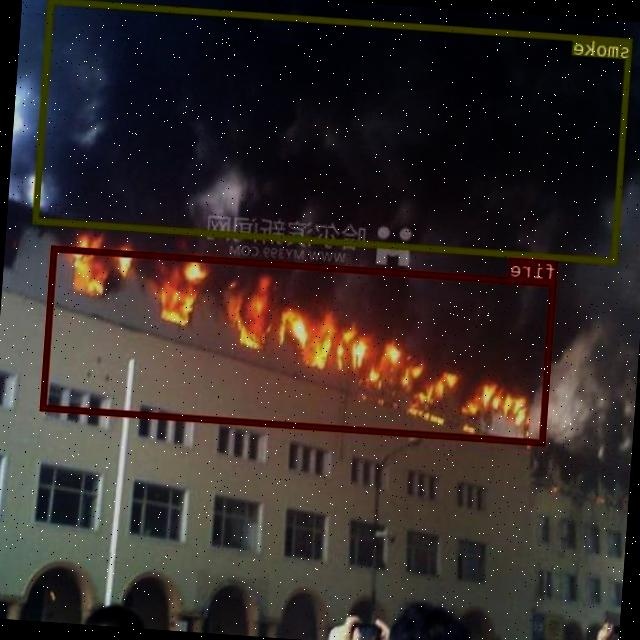fire: (42, 244, 557, 444)
smoke: (34, 0, 633, 262)
